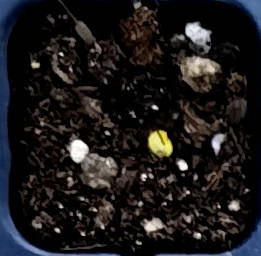pepper seed: (58, 48, 233, 207)
